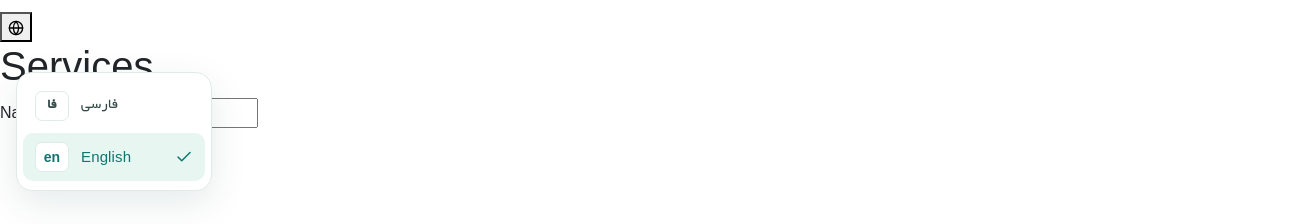
it: actual globe menu exposes Persian and English radio options and switches content without losing form drafts
Earlier steps of the test are not shown.
Expected: the menu item "en English" is checked, [23,133,205,181]
Click the menu item "فا فارسی".
click(52, 106)  # box [35,91,118,121]
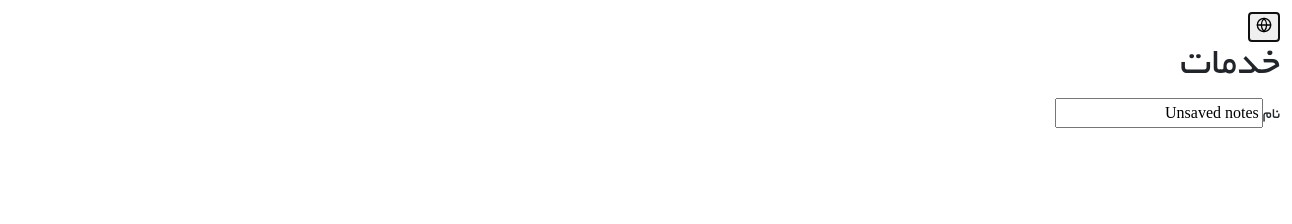
Expected: the menu is gone
Expected: the heading "خدمات" is shown, [1180,46,1280,86]
